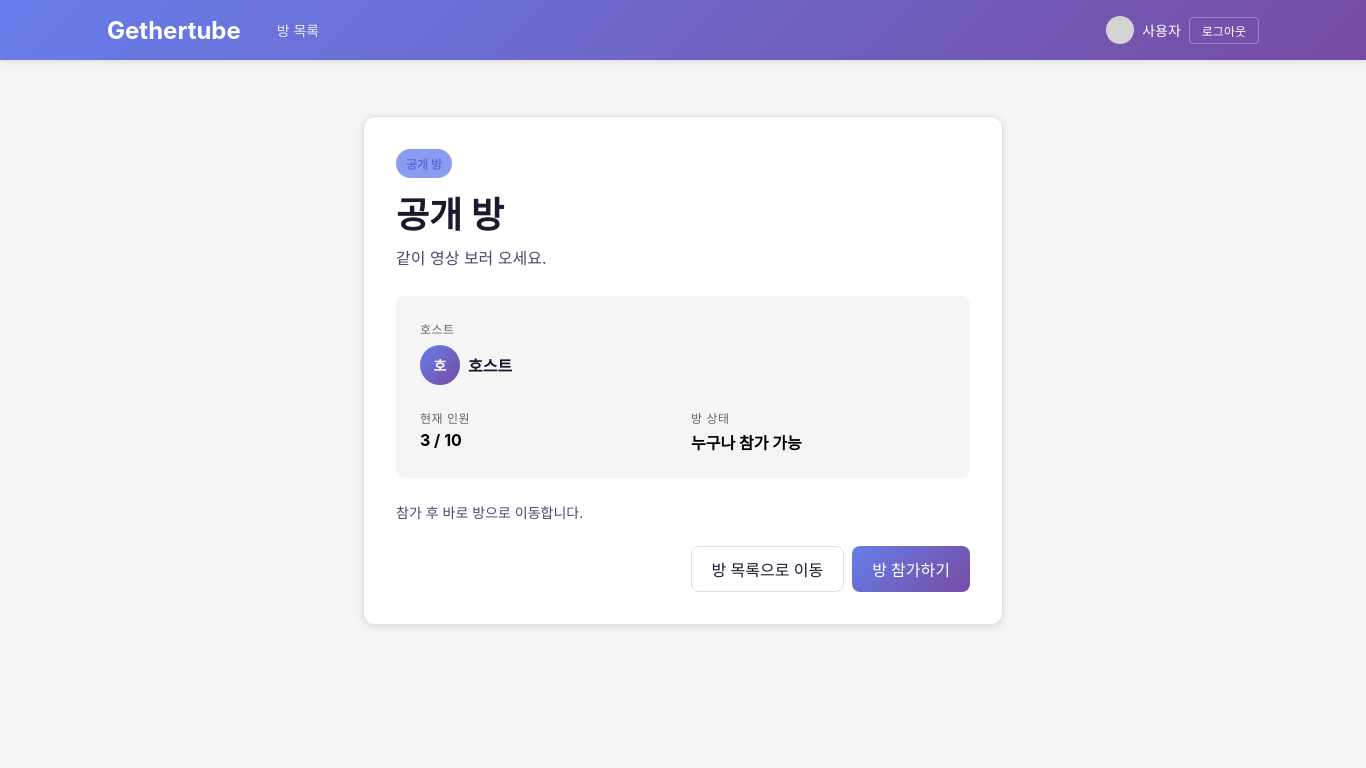
Scenario: RoomJoinPage › shows a full-room state when join is rejected
Expected: the heading "공개 방" is shown, [396,193,504,237]
Click the button "방 참가하기" at (911, 569), box [852,546,970,592]
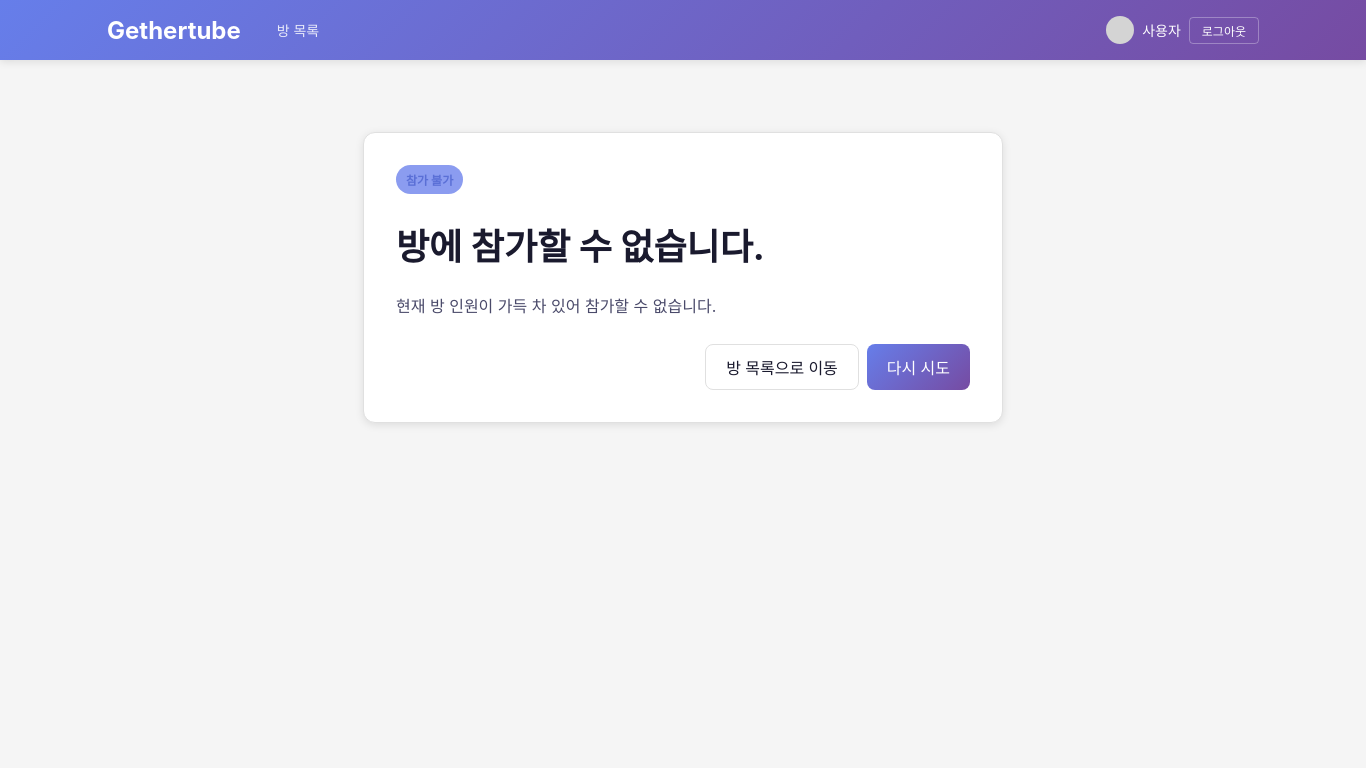
Expected: the text "현재 방 인원이 가득 차 있어 참가할 수 없습니다." is shown, [396,296,716,316]
